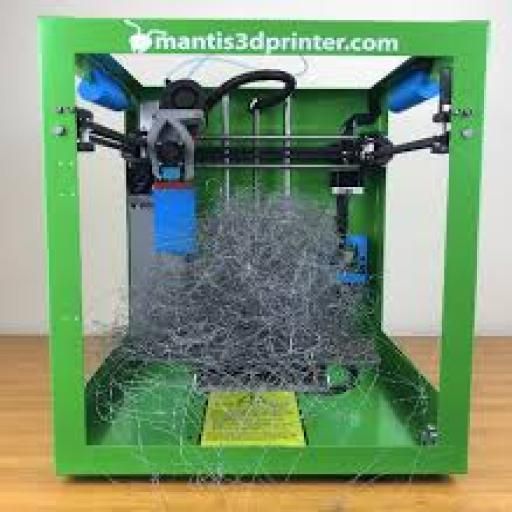spaghetti: (138, 178, 392, 429)
